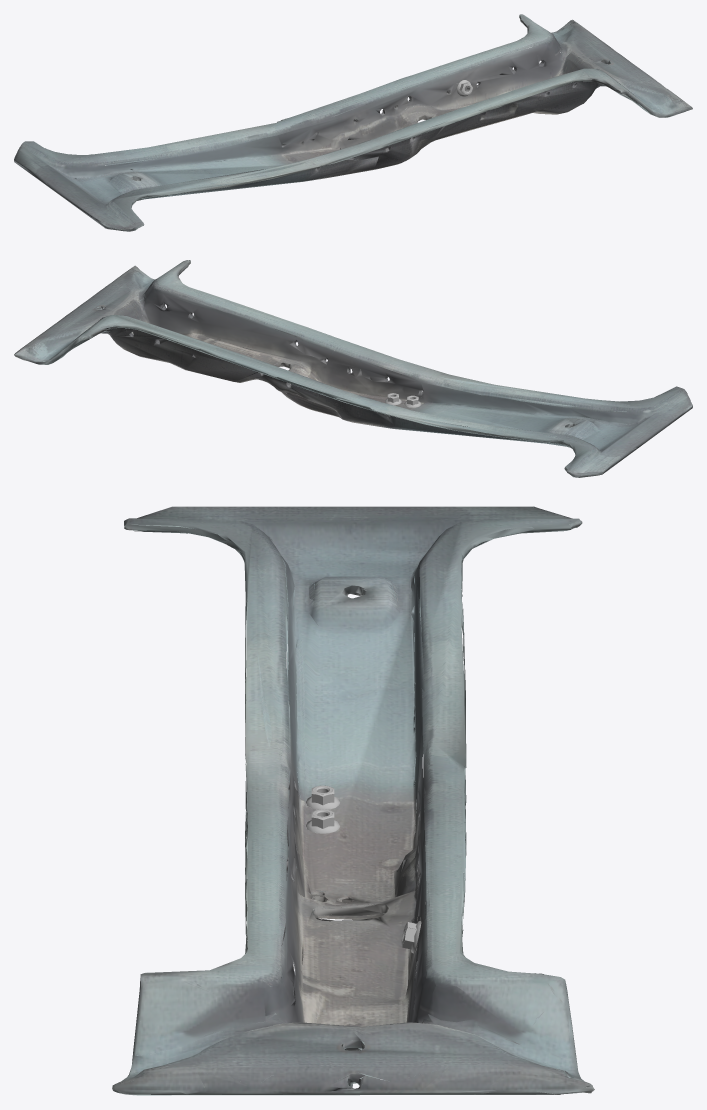
3 views of the same model, one above another, from view 1: azimuth 30°, elevation 25°; view 2: azimuth 150°, elevation 25°; view 3: azimuth 270°, elevation 25° (orthographic). The views are drawn at different scales.
Visible parts, largest first — view 1: PecaPrincipal; view 2: PecaPrincipal; view 3: PecaPrincipal.
Boxes of the visible parts, bbox=[...] form: PecaPrincipal: bbox=[14, 14, 692, 231]; PecaPrincipal: bbox=[14, 260, 692, 477]; PecaPrincipal: bbox=[112, 506, 594, 1095].
Size of the model in its own units: 1.9 by 0.1891 by 0.691.
Materials: 4 (1 with a texture image).
